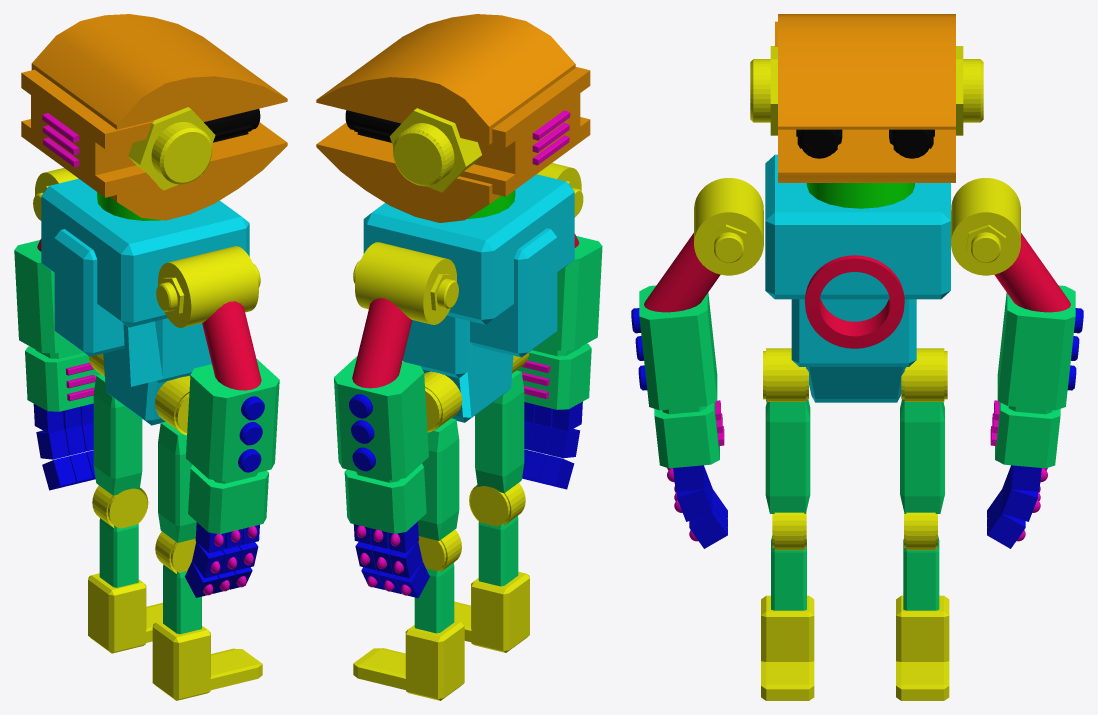
Rendered from hal09.fbx.
3 renders of one model, left to right at view 1: azimuth 30°, elevation 25°; view 2: azimuth 150°, elevation 25°; view 3: azimuth 270°, elevation 25°, orthographic. The views are drawn at different scales.
Parts seen in each view (by area): view 1: polySurface370, polySurface286, polySurface338, polySurface336, polySurface378, polySurface377, polySurface373, polySurface297, polySurface341, polySurface372, polySurface339, polySurface340 (+3 smaller); view 2: polySurface377, polySurface286, polySurface378, polySurface338, polySurface336, polySurface370, polySurface297, polySurface373, polySurface341, polySurface339, polySurface372, polySurface340 (+3 smaller); view 3: polySurface370, polySurface377, polySurface286, polySurface338, polySurface378, polySurface336, polySurface297, polySurface339, polySurface337, polySurface340, polySurface372, Neck (+3 smaller).
Boxes of the visible parts, left/top/right/bottom form: polySurface370: left=156, top=246, right=279, bottom=597; polySurface286: left=31, top=14, right=287, bottom=129; polySurface338: left=41, top=178, right=249, bottom=386; polySurface336: left=152, top=376, right=262, bottom=700; polySurface378: left=88, top=353, right=162, bottom=653; polySurface377: left=14, top=168, right=100, bottom=490; polySurface373: left=21, top=69, right=157, bottom=197; polySurface297: left=110, top=122, right=287, bottom=220; polySurface341: left=54, top=229, right=124, bottom=356; polySurface372: left=151, top=122, right=212, bottom=184; polySurface339: left=155, top=318, right=211, bottom=382; polySurface340: left=103, top=348, right=190, bottom=425; polySurface377: left=334, top=242, right=458, bottom=598; polySurface286: left=316, top=14, right=575, bottom=144; polySurface378: left=353, top=371, right=464, bottom=700; polySurface338: left=363, top=174, right=574, bottom=324; polySurface336: left=454, top=352, right=529, bottom=652; polySurface370: left=517, top=163, right=602, bottom=489; polySurface297: left=316, top=122, right=500, bottom=222; polySurface373: left=460, top=67, right=590, bottom=196; polySurface341: left=470, top=228, right=557, bottom=357; polySurface339: left=402, top=315, right=471, bottom=378; polySurface372: left=393, top=123, right=454, bottom=186; polySurface340: left=423, top=343, right=513, bottom=422; polySurface370: left=631, top=178, right=763, bottom=548; polySurface377: left=951, top=178, right=1083, bottom=548; polySurface286: left=778, top=14, right=955, bottom=129; polySurface338: left=765, top=154, right=950, bottom=299; polySurface378: left=896, top=348, right=949, bottom=700; polySurface336: left=761, top=348, right=814, bottom=700; polySurface297: left=778, top=129, right=955, bottom=182; polySurface339: left=791, top=299, right=916, bottom=366; polySurface337: left=805, top=255, right=904, bottom=348; polySurface340: left=806, top=367, right=906, bottom=402; polySurface372: left=750, top=59, right=983, bottom=122; Neck: left=806, top=183, right=914, bottom=208.
Bounding box in the file's own units: 6.4 × 19.77 × 12.63.
